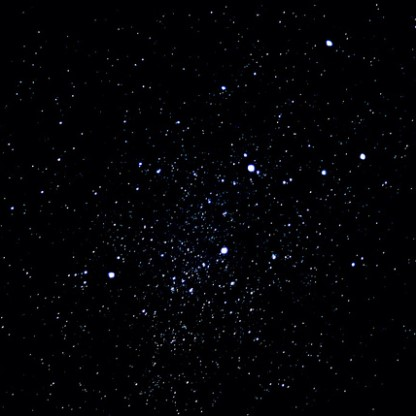Cassiopeia: (313, 149, 374, 180), (211, 237, 246, 268), (236, 154, 271, 185), (312, 30, 337, 58), (100, 257, 121, 283)
